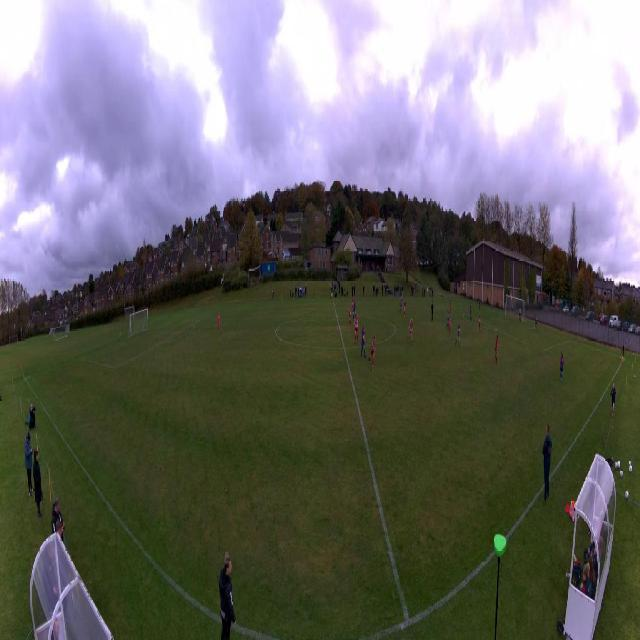ball: (534, 327, 535, 329)
player: (368, 335, 377, 367), (361, 326, 367, 357), (407, 317, 413, 345), (354, 314, 359, 345), (559, 353, 564, 381), (456, 321, 461, 348), (494, 336, 498, 364), (353, 299, 357, 321), (217, 313, 221, 333), (446, 309, 450, 329), (399, 296, 403, 314), (349, 304, 352, 328), (431, 302, 434, 322), (478, 315, 481, 335), (449, 317, 452, 336), (404, 299, 407, 317), (535, 315, 538, 332), (519, 307, 522, 323), (449, 299, 452, 314), (470, 303, 472, 321), (352, 296, 354, 314), (479, 298, 481, 310)
